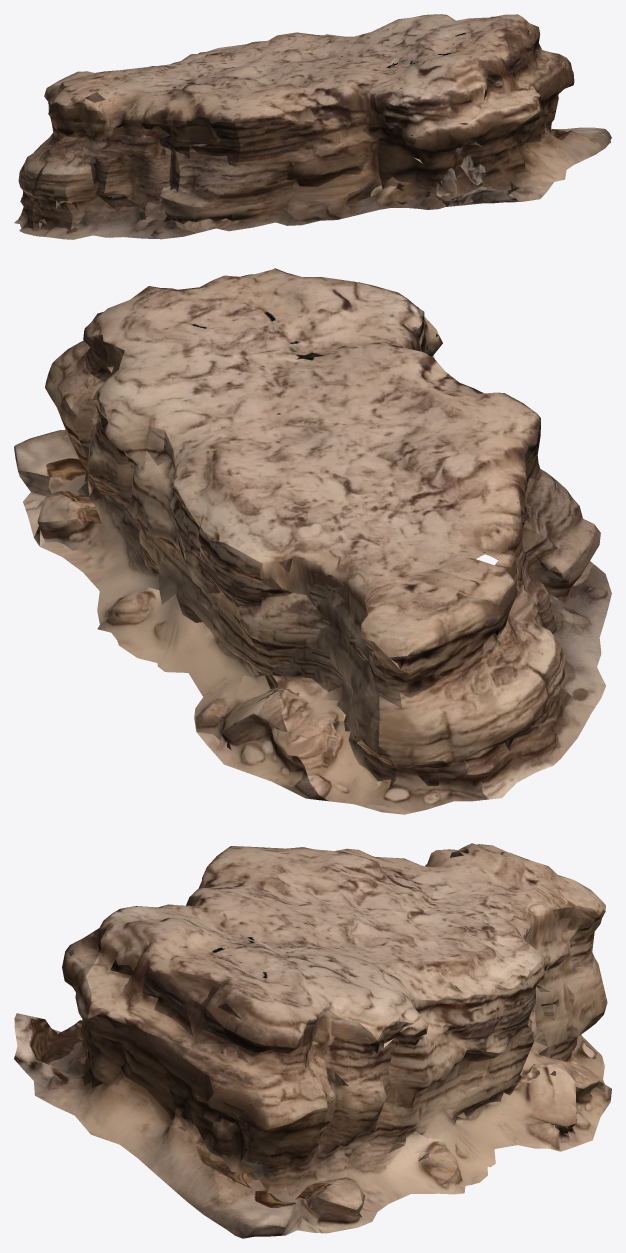
File: rock_ridge.glb
3 views of the same model, one above another, from view 1: azimuth 30°, elevation 25°; view 2: azimuth 150°, elevation 25°; view 3: azimuth 270°, elevation 25° (orthographic). The views are drawn at different scales.
Visible parts, largest first — view 1: LowPoly; view 2: LowPoly; view 3: LowPoly.
Boxes of the visible parts, x1=… form: LowPoly: x1=14, y1=14, x2=611, y2=239; LowPoly: x1=14, y1=268, x2=611, y2=814; LowPoly: x1=14, y1=843, x2=611, y2=1238.
Bounding box in the file's own units: 0.8711 × 0.363 × 0.7011.
1 material, 1 textured.
